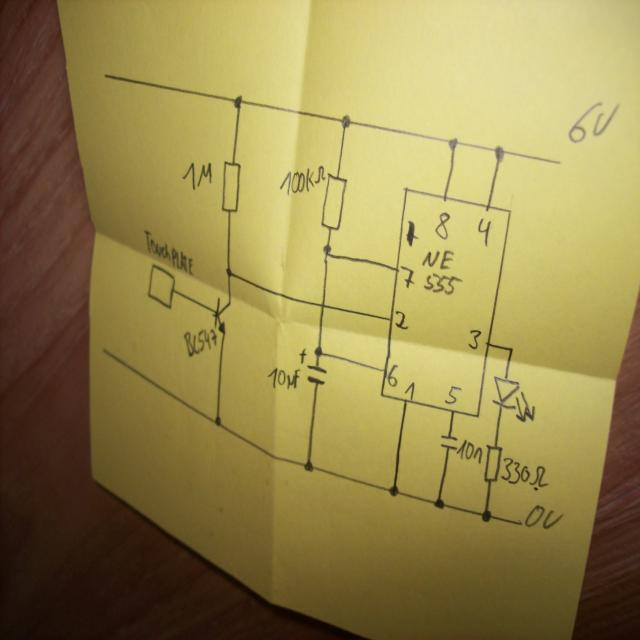capacitor: (299, 348, 327, 387), (439, 432, 458, 452)
crossover: (319, 299, 327, 310)
diode: (491, 375, 536, 423)
junction: (493, 144, 506, 163), (321, 244, 332, 262), (232, 94, 244, 110), (341, 114, 352, 130), (433, 496, 445, 509), (388, 484, 400, 497), (481, 508, 492, 522), (303, 459, 313, 474), (448, 136, 458, 150), (313, 344, 323, 357), (214, 415, 222, 427), (507, 344, 515, 356), (225, 267, 232, 277)
resistor: (319, 171, 348, 231), (220, 160, 242, 213), (482, 442, 502, 483)
terminal: (146, 263, 175, 310), (554, 156, 563, 168), (101, 70, 109, 80), (99, 346, 107, 355), (516, 518, 523, 527)
text: (143, 228, 194, 276), (566, 100, 620, 144), (420, 248, 463, 296), (500, 456, 549, 488), (278, 164, 326, 196), (524, 503, 564, 530), (183, 328, 217, 358), (181, 160, 213, 191), (267, 366, 300, 390), (456, 438, 482, 464), (434, 210, 451, 240), (476, 216, 492, 246), (399, 264, 415, 288), (444, 384, 462, 404), (467, 328, 482, 350), (394, 310, 409, 330), (387, 363, 399, 387), (404, 380, 415, 400)
transistor: (212, 296, 232, 334)
